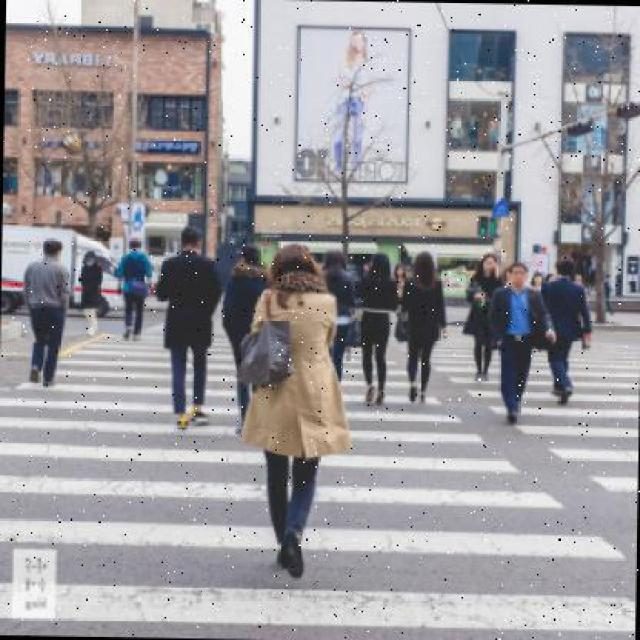Person: (245, 242, 337, 576), (153, 225, 219, 432), (490, 262, 545, 422), (395, 248, 450, 401), (537, 254, 588, 403), (354, 250, 398, 408), (22, 237, 64, 386), (467, 254, 499, 380), (115, 236, 151, 342), (77, 248, 105, 339)
